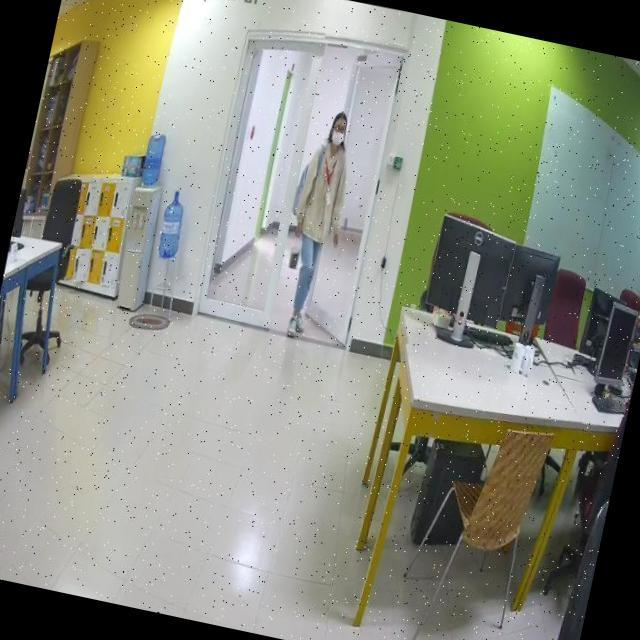person: (266, 106, 362, 339)
